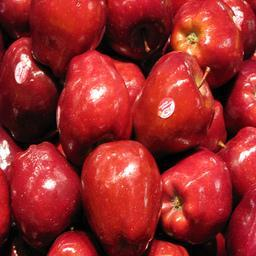apple: (127, 58, 222, 162), (81, 141, 165, 252), (55, 51, 131, 159), (10, 142, 79, 246), (157, 155, 233, 248), (1, 39, 61, 144), (173, 1, 244, 89), (28, 1, 107, 76), (107, 1, 177, 65), (45, 229, 99, 255), (1, 1, 34, 39)
